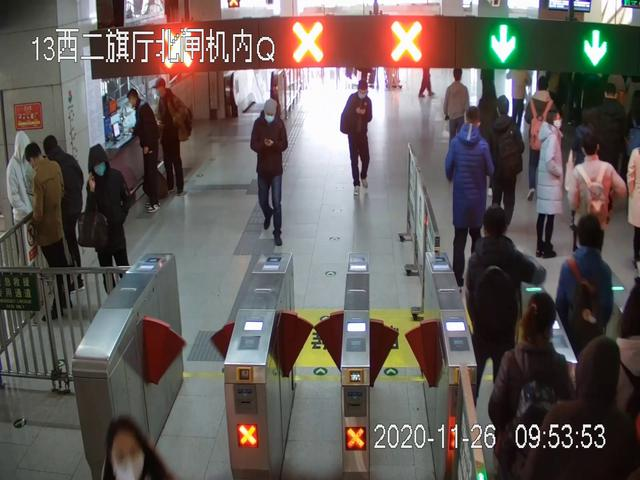person: (466, 205, 547, 426), (490, 292, 580, 480), (22, 141, 72, 318), (447, 106, 495, 283), (559, 215, 612, 372), (82, 144, 134, 301), (569, 131, 627, 263), (42, 134, 84, 290), (7, 131, 44, 304), (250, 99, 290, 246), (487, 95, 524, 231), (125, 87, 164, 215), (152, 79, 193, 198), (535, 109, 566, 260), (340, 81, 374, 197), (526, 77, 553, 202), (444, 67, 470, 170)
